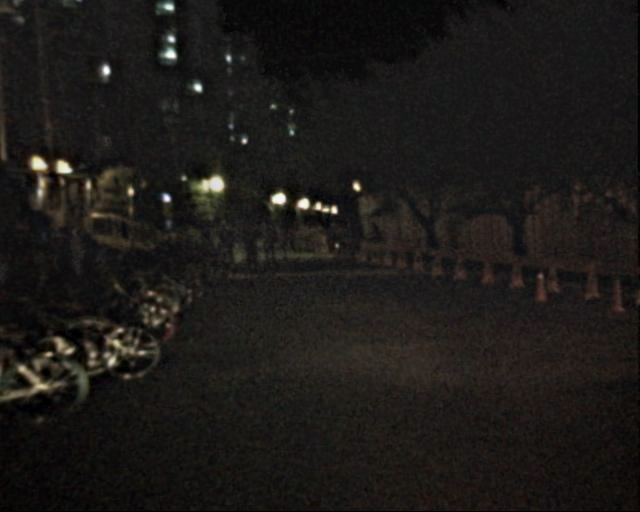person: (63, 224, 86, 279), (366, 218, 386, 267), (258, 219, 278, 267), (90, 227, 109, 273), (242, 223, 260, 268), (199, 220, 216, 261), (217, 217, 233, 255), (280, 219, 299, 251), (231, 216, 246, 253)
